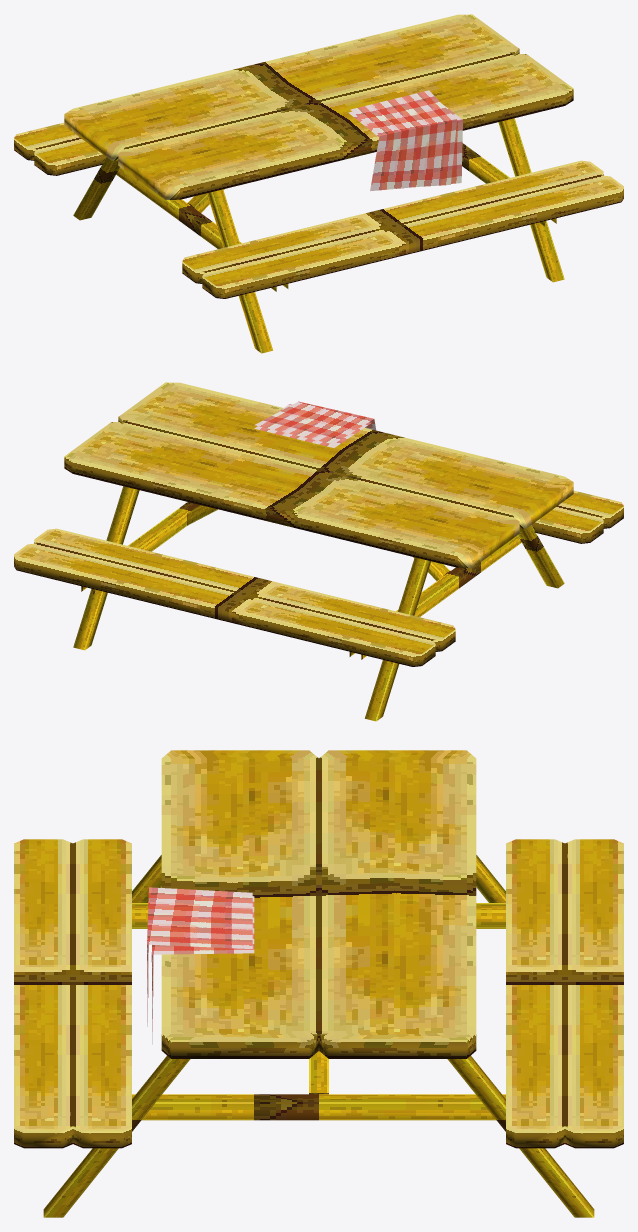
File: rmk_gdn_picnic.dae
3 views of the same model, one above another, from view 1: azimuth 30°, elevation 25°; view 2: azimuth 150°, elevation 25°; view 3: azimuth 270°, elevation 25° (orthographic). The views are drawn at different scales.
Parts seen in each view (by area): view 1: rmk_gdn_picnic; view 2: rmk_gdn_picnic; view 3: rmk_gdn_picnic.
Boxes of the visible parts, x1,y1,x2,y2 form: rmk_gdn_picnic: (14,14,623,353); rmk_gdn_picnic: (14,382,623,721); rmk_gdn_picnic: (14,750,623,1217).
Size of the model in its own units: 56 by 20.13 by 49.6.
Materials: 2 (2 with a texture image).
